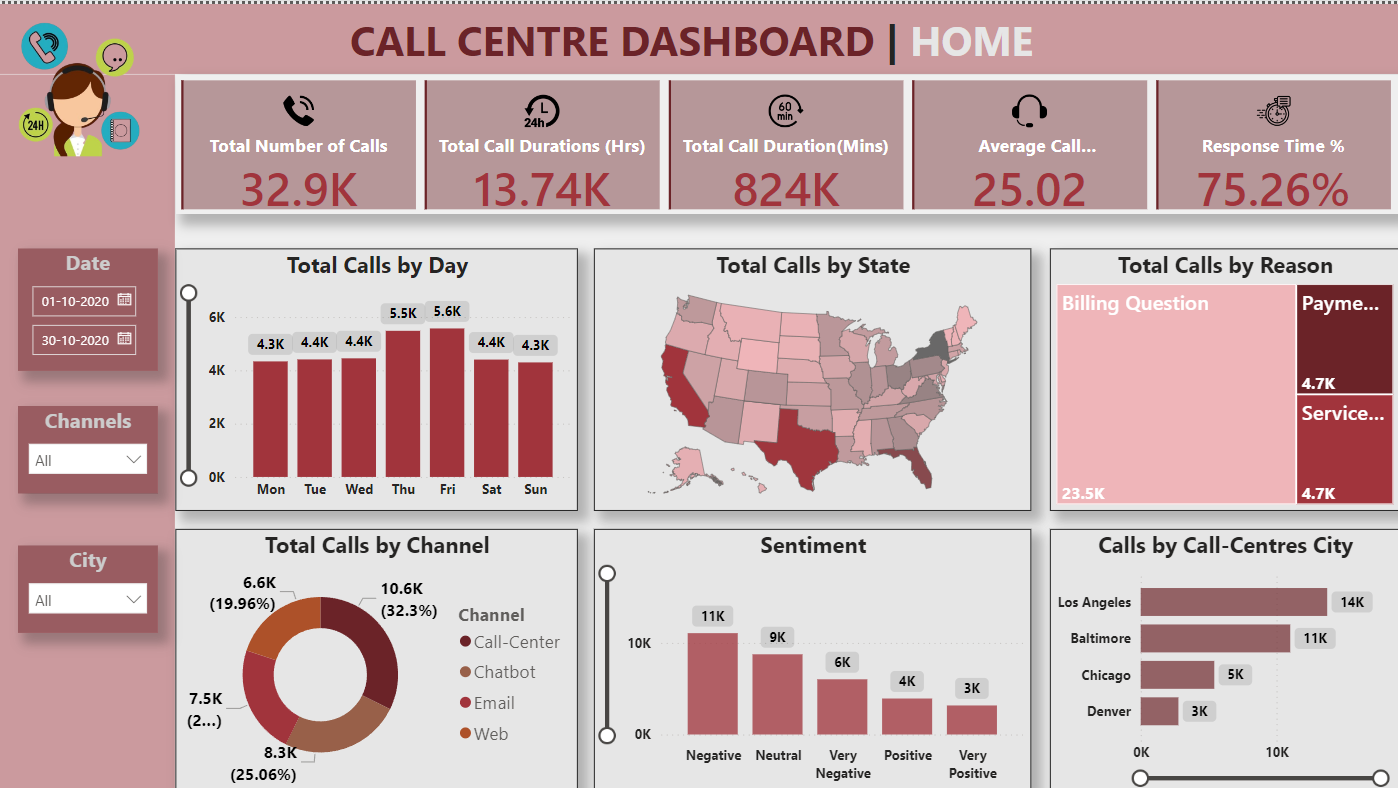

The dashboard page shown, as its layout file describes it:
{"tool":"powerbi","page":{"name":"Page 1","canvas":[1280,720],"ordinal":0},"visuals":[{"type":"shape","box":[0,0,1280,64],"z":0},{"type":"shape","box":[0,64,160,656],"z":1000},{"type":"cardVisual","fields":{"Data":["Call Center_Call Center.Total Number of Calls","Call Center_Call Center.Total Call Durations (Hrs)","Call Center_Call Center.Total Call Duration(Mins)","Call Center_Call Center.Average Call Duration(Mins)","Call Center_Call Center.Response Time %"]},"box":[160,64,1120,128],"z":2000},{"type":"textbox","box":[304,0,656,64],"z":3000},{"type":"columnChart","title":"Total Calls by Day","fields":{"Category":["Date Table.Day"],"Y":["Call Center_Call Center.Total Number of Calls"]},"box":[160,224,368,240],"z":4000},{"type":"shapeMap","title":"Total Calls by State","fields":{"Category":["Call Center_Call Center.State"],"Value":["Call Center_Call Center.Total Number of Calls"]},"box":[544,224,400,240],"z":5000},{"type":"treemap","title":"Total Calls by Reason","fields":{"Group":["Call Center_Call Center.Reason"],"Values":["Call Center_Call Center.Total Number of Calls"]},"box":[960,224,320,240],"z":6000},{"type":"donutChart","title":"Total Calls by Channel","fields":{"Category":["Call Center_Call Center.Channel"],"Y":["Call Center_Call Center.Total Number of Calls"]},"box":[160,480,368,240],"z":7000},{"type":"clusteredColumnChart","title":" Sentiment","fields":{"Category":["Call Center_Call Center.Sentiment"],"Y":["Call Center_Call Center.Total Number of Calls"]},"box":[544,480,400,240],"z":8000},{"type":"clusteredBarChart","title":"Calls by Call-Centres City","fields":{"Category":["Call Center_Call Center.Call-Centres City"],"Y":["Call Center_Call Center.Total Number of Calls"]},"box":[960,480,320,240],"z":9000},{"type":"slicer","title":"Channels","fields":{"Values":["Call Center_Call Center.Channel"]},"box":[16,368,128,80],"z":10000},{"type":"slicer","title":"City","fields":{"Values":["Call Center_Call Center.City"]},"box":[16,496,128,80],"z":11000},{"type":"slicer","title":"Date","fields":{"Values":["Date Table.Date"]},"box":[16,224,128,112],"z":12000},{"type":"image","box":[0,0,144,144],"z":13000}]}

Visuals, with their boxes in screenshot pixels (x1, y1, x2, y2), scaled from the page's 1280x720 canvas onto the 1398x788 screenshot:
shape: (0, 0, 1397, 70)
shape: (0, 70, 175, 787)
cardVisual - Call Center_Call Center.Total Number of Calls x Call Center_Call Center.Total Call Durations (Hrs): (175, 70, 1397, 210)
textbox: (332, 0, 1048, 70)
"Total Calls by Day" columnChart: (175, 245, 577, 508)
"Total Calls by State" shapeMap: (594, 245, 1031, 508)
"Total Calls by Reason" treemap: (1048, 245, 1397, 508)
"Total Calls by Channel" donutChart: (175, 525, 577, 787)
" Sentiment" clusteredColumnChart: (594, 525, 1031, 787)
"Calls by Call-Centres City" clusteredBarChart: (1048, 525, 1397, 787)
"Channels" slicer: (17, 403, 157, 490)
"City" slicer: (17, 543, 157, 630)
"Date" slicer: (17, 245, 157, 368)
image: (0, 0, 157, 158)
